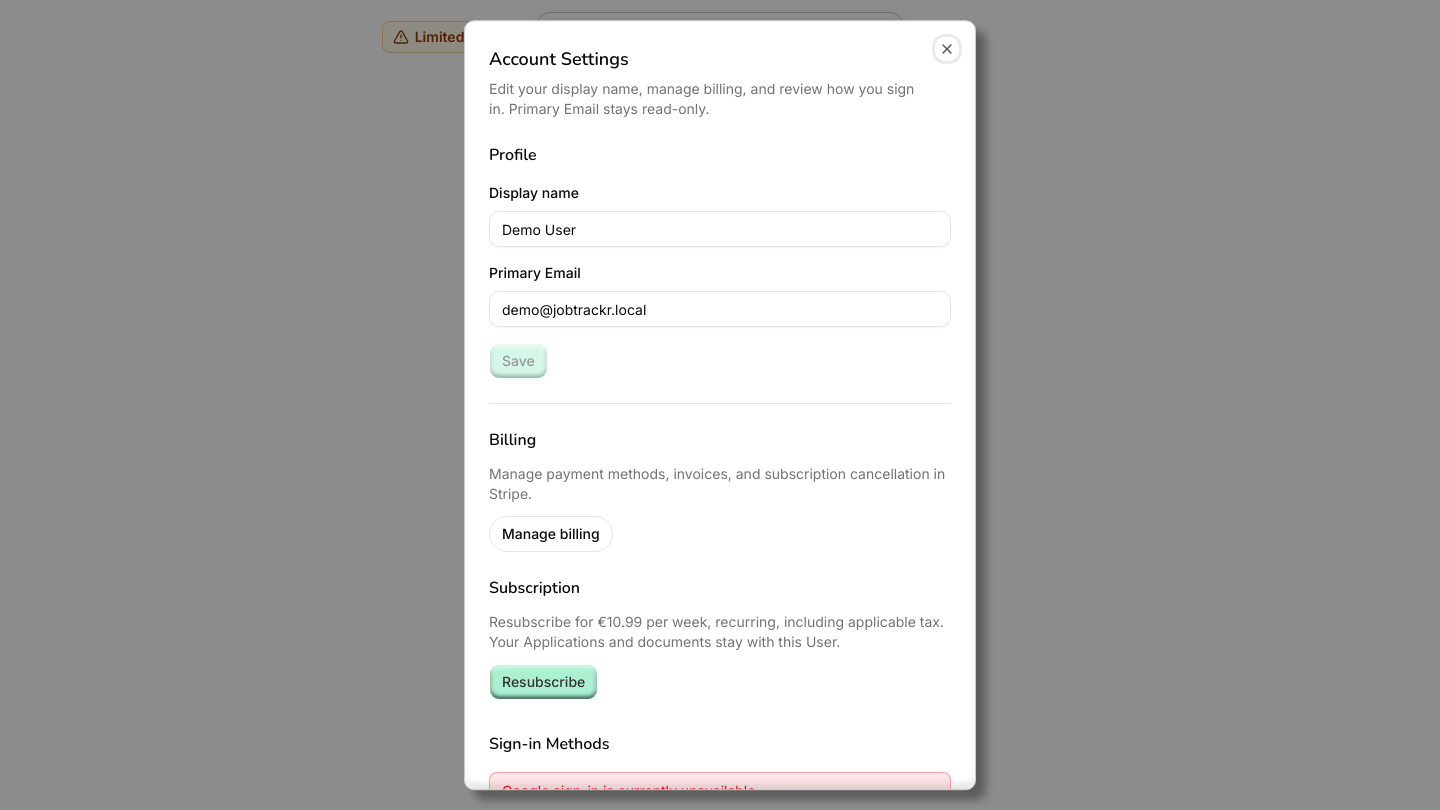
Scenario: Account Settings routed dialog › offers canceled Users resubscription and reports Checkout errors without registration
The image size is (1440, 810).
Click the button "Resubscribe". click: (544, 682)
box: [489,664,598,700]
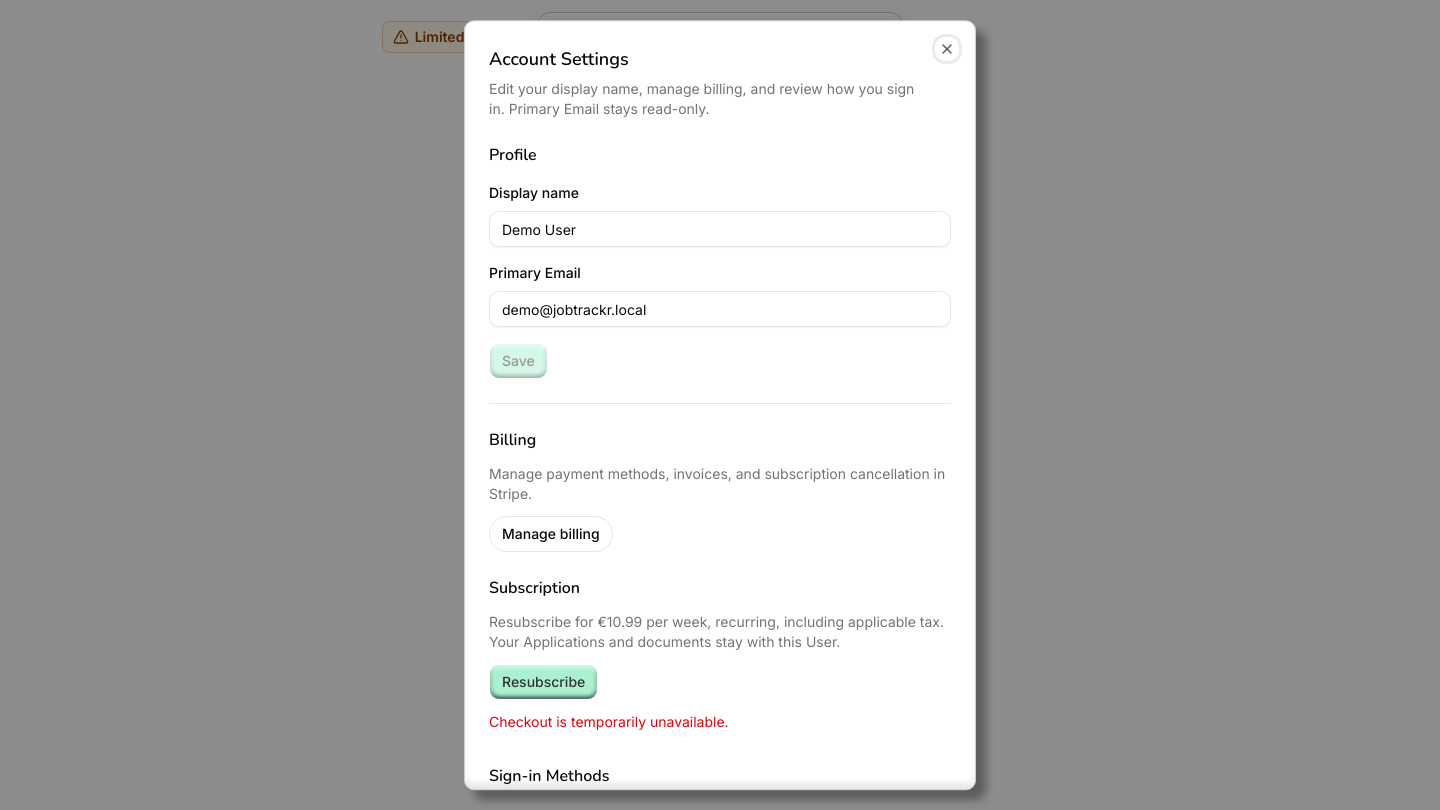
Expected: the field showing "demo@jobtrackr.local" is shown, [489,291,951,327]
Expected: the message reads "Checkout is temporarily unavailable.", [489,713,729,730]
